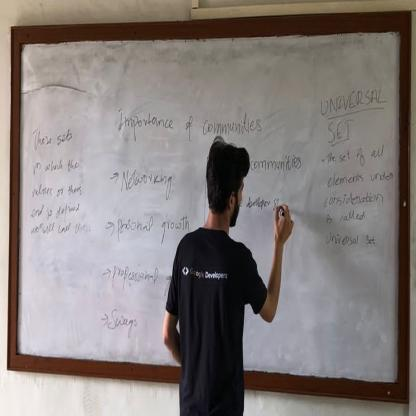Handwritten text: (113, 90, 264, 146), (112, 204, 199, 247), (108, 253, 183, 300), (119, 154, 180, 202), (316, 82, 390, 115), (241, 149, 312, 179), (234, 186, 285, 218), (321, 142, 391, 165), (325, 168, 396, 189), (106, 302, 141, 343), (27, 198, 84, 223), (324, 190, 389, 210), (31, 122, 76, 150), (31, 154, 82, 177), (28, 179, 86, 199), (324, 230, 385, 249), (326, 116, 356, 144), (322, 209, 371, 226)
Lecturer: (161, 132, 281, 408)
Whiteboard: (14, 22, 403, 386)
